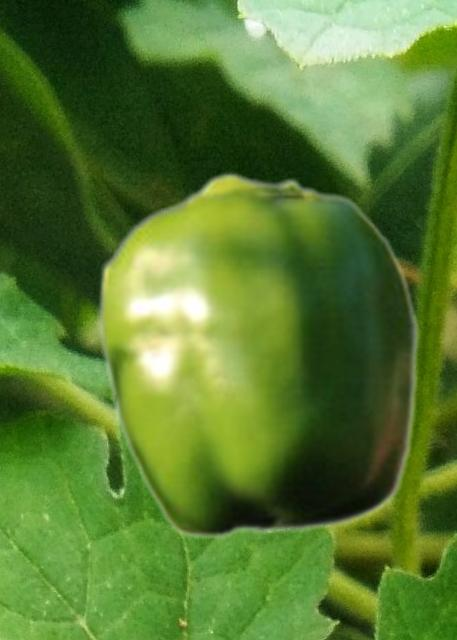bell_pepper: (97, 171, 419, 539)
